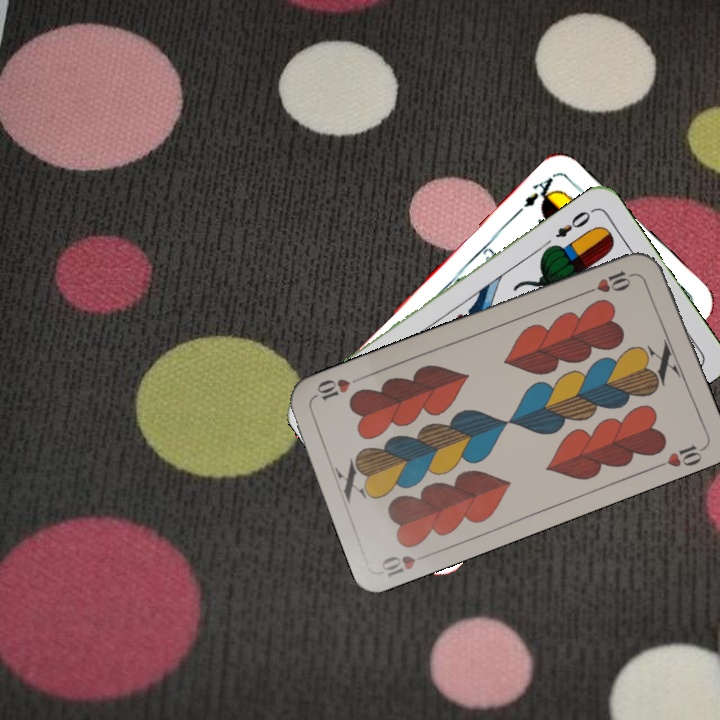EA: (513, 170, 561, 217)
EO: (551, 204, 597, 241)
H10: (377, 548, 435, 580), (581, 266, 639, 297)
